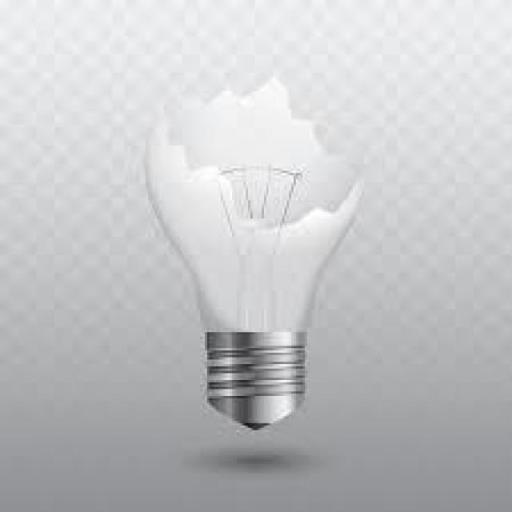glass: (125, 49, 382, 344)
